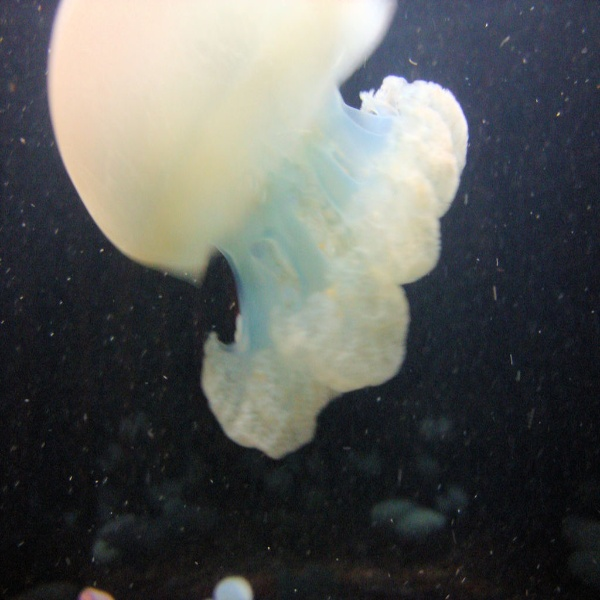Jellyfish: (43, 4, 468, 457)
